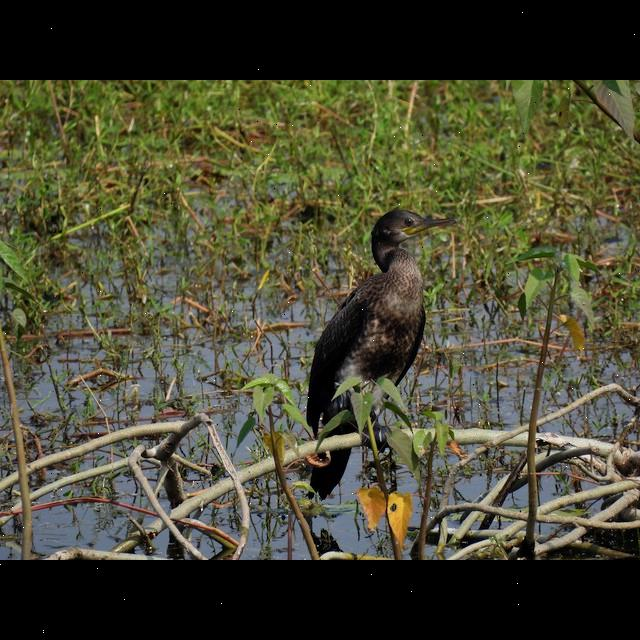cormorant: (292, 198, 463, 496)
